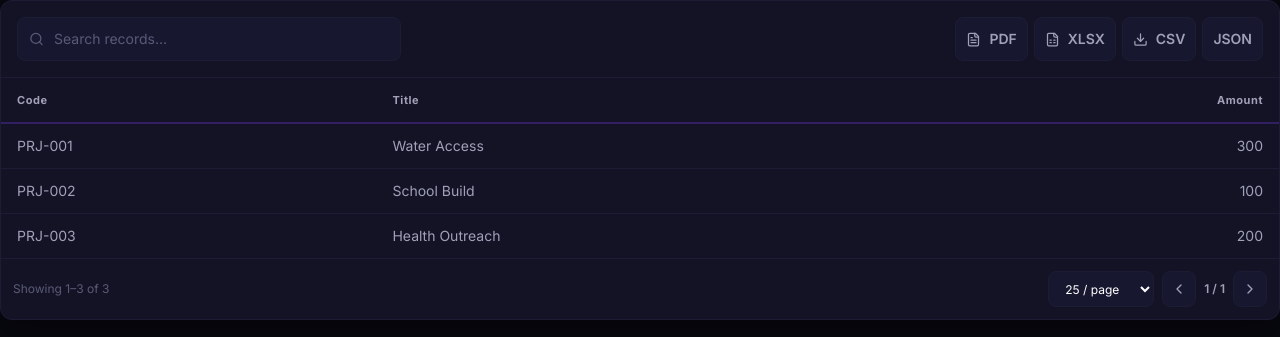
Test: DataTable › filters rows by the search box once the input settles
The width and height of the screenshot is (1280, 337).
Type "Water" into the search field with placeholder "Search records…" at (209, 39), box [17,17,401,61]
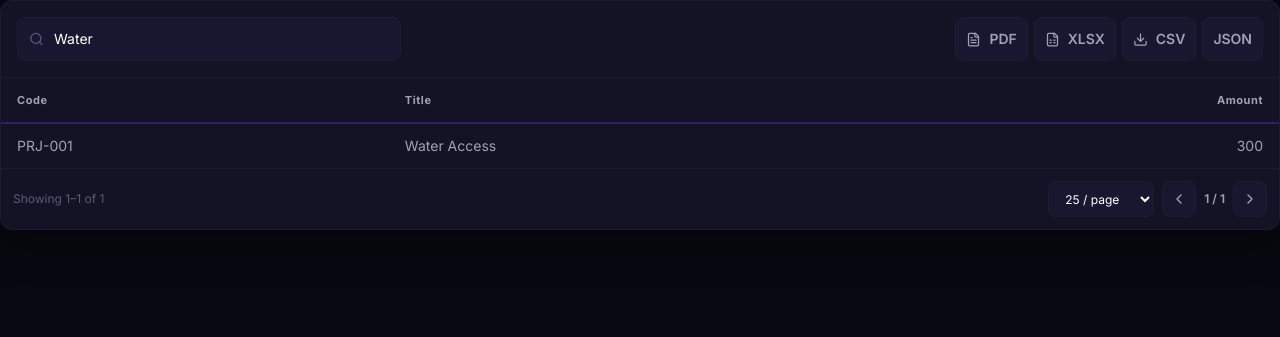
Expected: the text "Water Access" is shown, [389,123,934,168]
Now the text "School Build" is gone
